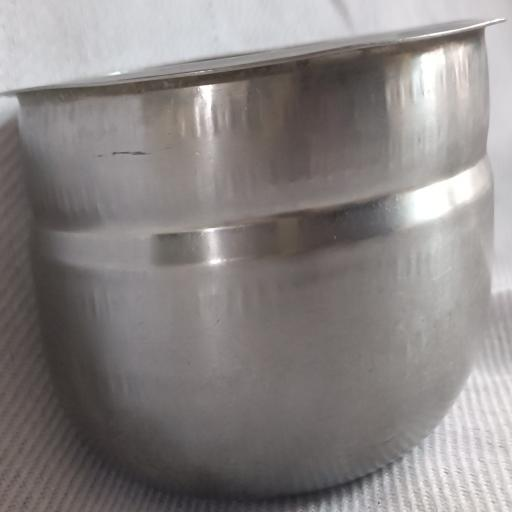vessel: (17, 20, 495, 498)
